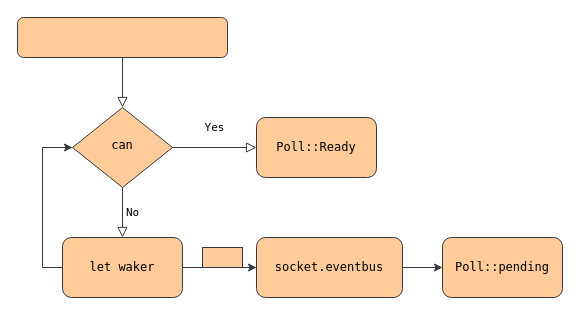
Some shapes in this 580 by 315 pixel diagram are drawn without their labels. The shapes that lost their labels are listed below. From the top down, each one's box as (x1, y1, x2, y2) in pixels, then its label:
(16, 16, 228, 58): Pin(SocketFuture{socket})
(202, 246, 242, 268): move
